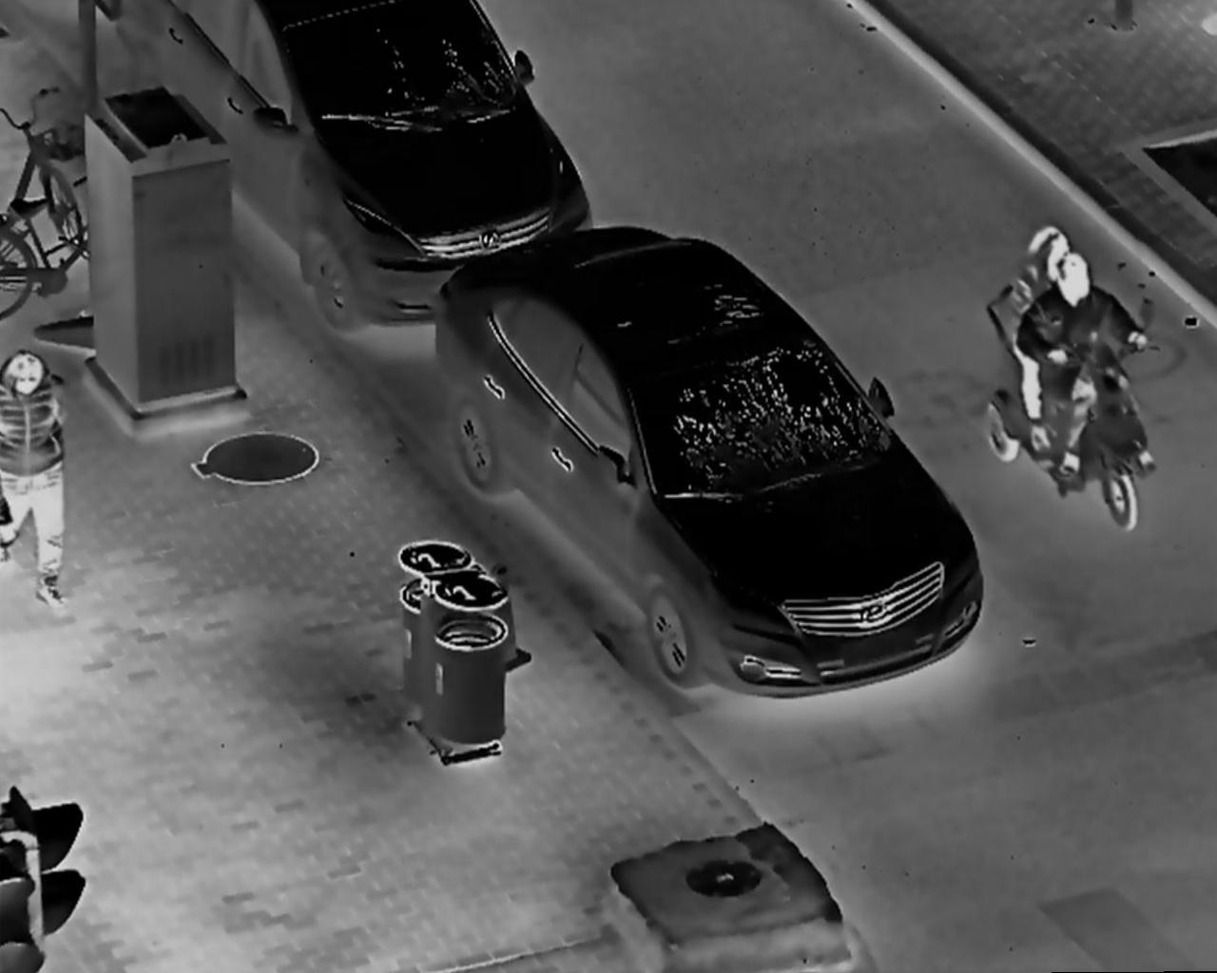person: (1020, 253, 1158, 480), (999, 224, 1091, 451)
